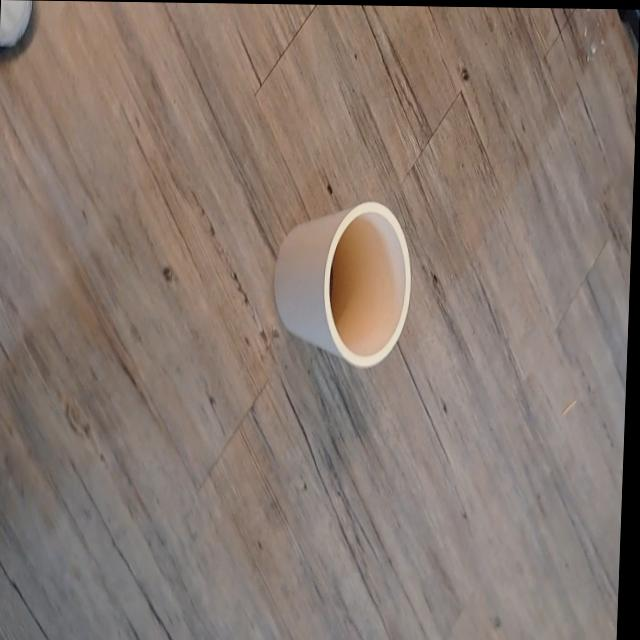CORAL: (257, 188, 423, 394)
